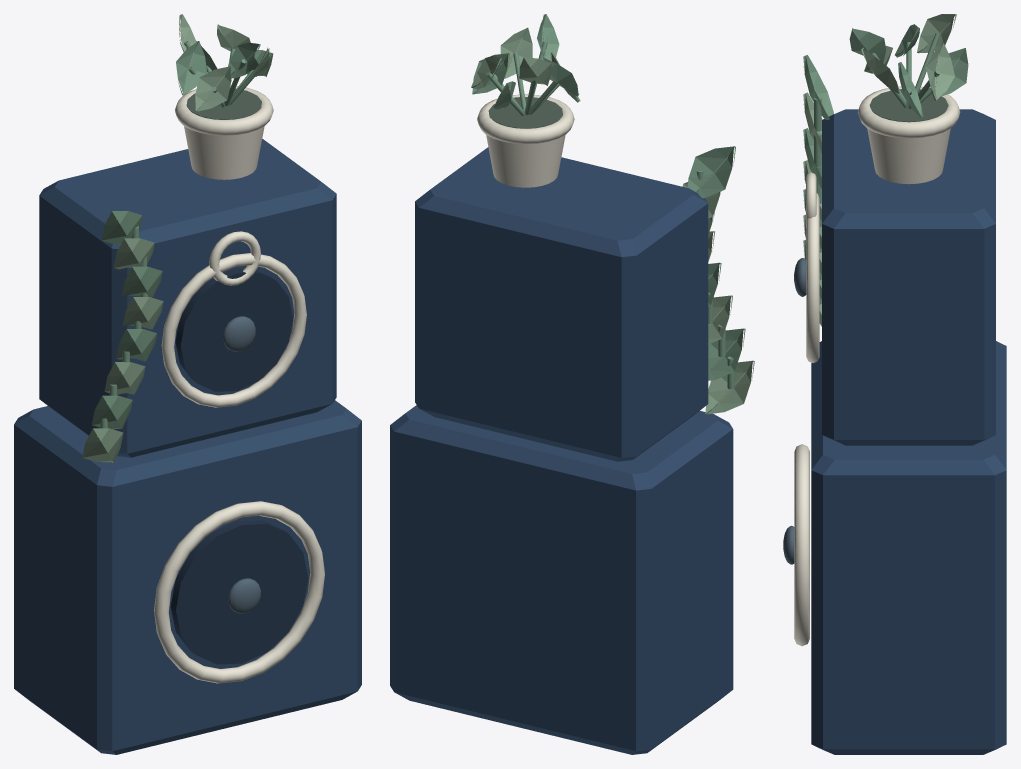
The model's file is v18_special_speaker_stack.glb.
3 renders of one model, left to right at view 1: azimuth 30°, elevation 25°; view 2: azimuth 150°, elevation 25°; view 3: azimuth 270°, elevation 25°, orthographic. The views are drawn at different scales.
Parts seen in each view (by area): view 1: _MeshInstance3D_5683, _MeshInstance3D_5687, _MeshInstance3D_5685, _MeshInstance3D_5689, _MeshInstance3D_5684, _MeshInstance3D_5688, _MeshInstance3D_5692, _MeshInstance3D_5693, _MeshInstance3D_5691, _MeshInstance3D_5705, _MeshInstance3D_5694, _MeshInstance3D_5740 (+11 smaller); view 2: _MeshInstance3D_5683, _MeshInstance3D_5687, _MeshInstance3D_5692, _MeshInstance3D_5693, _MeshInstance3D_5719, _MeshInstance3D_5740, _MeshInstance3D_5694, _MeshInstance3D_5737, _MeshInstance3D_5699, _MeshInstance3D_5734, _MeshInstance3D_5711, _MeshInstance3D_5702; view 3: _MeshInstance3D_5683, _MeshInstance3D_5687, _MeshInstance3D_5692, _MeshInstance3D_5684, _MeshInstance3D_5693, _MeshInstance3D_5688, _MeshInstance3D_5694, _MeshInstance3D_5717, _MeshInstance3D_5711, _MeshInstance3D_5719, _MeshInstance3D_5702, _MeshInstance3D_5714 (+8 smaller).
Part boxes in pixels (box(x1,y1,x2,y2)): _MeshInstance3D_5683: box(14, 400, 361, 754); _MeshInstance3D_5687: box(39, 139, 336, 457); _MeshInstance3D_5685: box(170, 520, 308, 664); _MeshInstance3D_5689: box(175, 269, 292, 391); _MeshInstance3D_5684: box(154, 501, 324, 683); _MeshInstance3D_5688: box(161, 253, 306, 407); _MeshInstance3D_5692: box(184, 126, 264, 179); _MeshInstance3D_5693: box(175, 86, 273, 135); _MeshInstance3D_5691: box(209, 231, 260, 285); _MeshInstance3D_5705: box(195, 66, 231, 111); _MeshInstance3D_5694: box(186, 88, 261, 119); _MeshInstance3D_5740: box(82, 428, 123, 463); _MeshInstance3D_5683: box(390, 405, 733, 754); _MeshInstance3D_5687: box(415, 147, 708, 461); _MeshInstance3D_5692: box(486, 135, 565, 187); _MeshInstance3D_5693: box(477, 94, 574, 144); _MeshInstance3D_5719: box(687, 146, 735, 198); _MeshInstance3D_5740: box(705, 360, 754, 414); _MeshInstance3D_5694: box(488, 97, 562, 128); _MeshInstance3D_5737: box(708, 328, 745, 380); _MeshInstance3D_5699: box(500, 27, 532, 78); _MeshInstance3D_5734: box(708, 295, 732, 344); _MeshInstance3D_5711: box(519, 56, 551, 85); _MeshInstance3D_5702: box(537, 14, 559, 60); _MeshInstance3D_5683: box(811, 341, 1006, 754); _MeshInstance3D_5687: box(822, 109, 995, 445); _MeshInstance3D_5692: box(867, 128, 950, 184); _MeshInstance3D_5684: box(794, 444, 809, 646); _MeshInstance3D_5693: box(857, 86, 960, 138); _MeshInstance3D_5688: box(806, 193, 819, 362); _MeshInstance3D_5694: box(869, 89, 948, 122); _MeshInstance3D_5717: box(926, 43, 954, 100); _MeshInstance3D_5711: box(917, 14, 956, 53); _MeshInstance3D_5719: box(803, 55, 833, 119); _MeshInstance3D_5702: box(849, 28, 886, 61); _MeshInstance3D_5714: box(933, 48, 968, 98).
Bounding box in the file's own units: 0.7872 × 1.78 × 0.5246.
